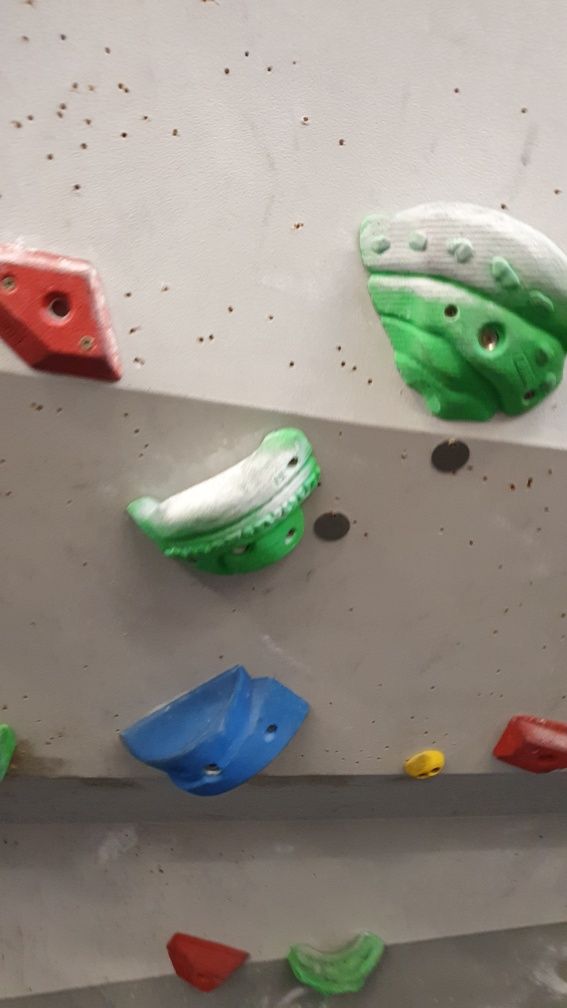Crimp: (1, 238, 131, 385), (493, 714, 567, 775)
Hand Start: (427, 434, 474, 482), (310, 502, 359, 547)
Jug: (353, 197, 567, 431), (123, 428, 325, 582), (286, 924, 393, 1001)
Pinch: (121, 661, 313, 800)
